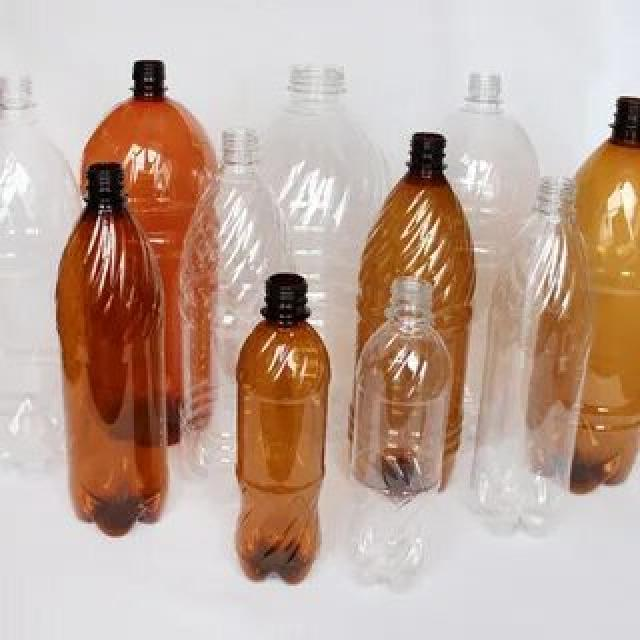brown: (57, 162, 168, 538), (233, 273, 330, 585), (566, 94, 640, 492), (360, 130, 470, 335), (77, 58, 220, 197)
